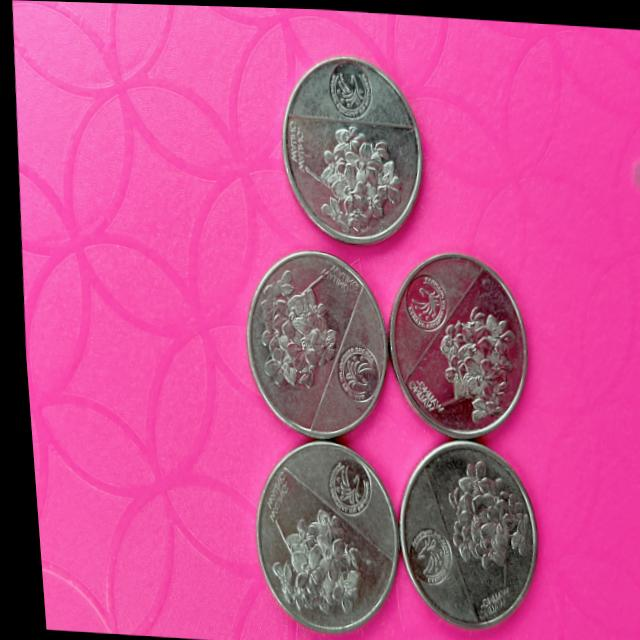1_New_Back: (258, 499, 359, 638), (423, 449, 525, 562), (245, 268, 335, 393), (302, 122, 393, 243), (423, 304, 512, 419)
